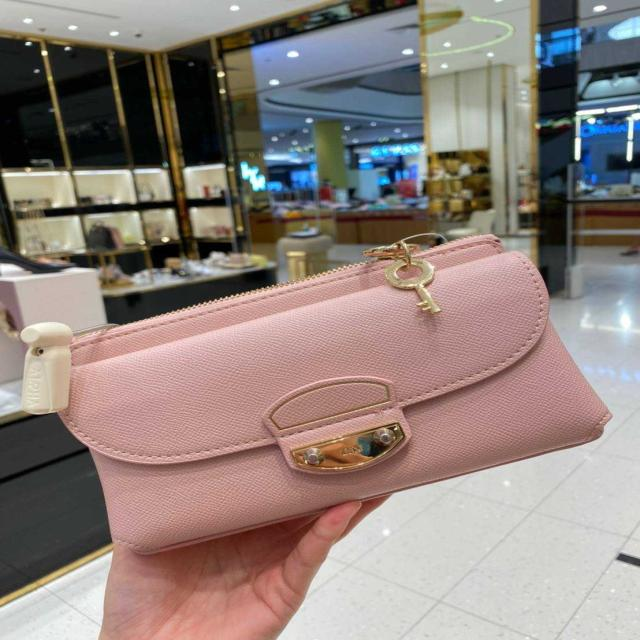bag: (3, 208, 640, 568)
